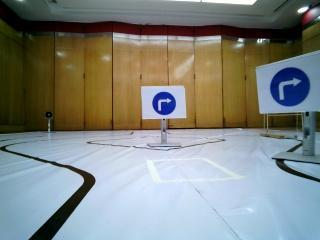right: (255, 67, 320, 107), (141, 87, 186, 121)
